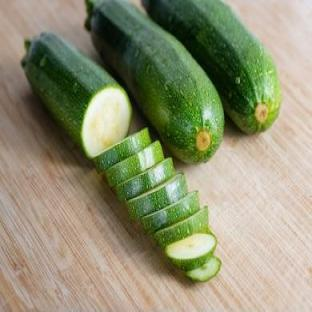Zucchini: (23, 33, 131, 158), (126, 173, 187, 219), (106, 141, 163, 187), (115, 158, 174, 201), (93, 129, 151, 172), (141, 191, 199, 233), (154, 207, 207, 248), (166, 233, 216, 271), (187, 256, 221, 281)
